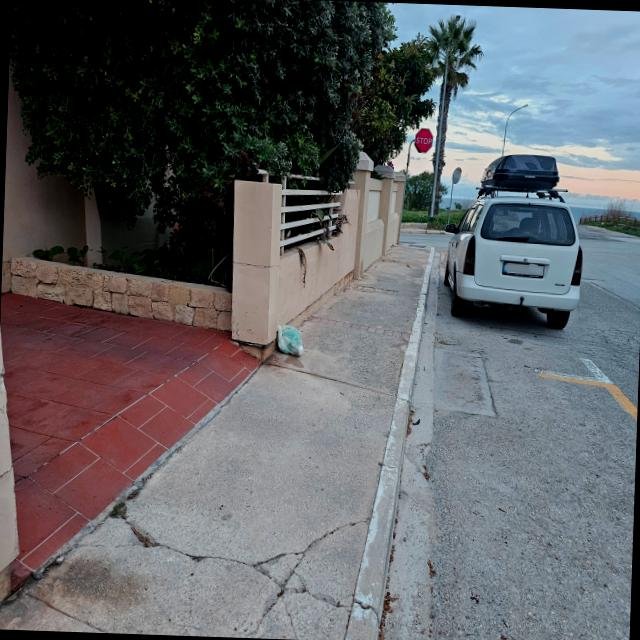white_bag: (272, 322, 306, 358)
